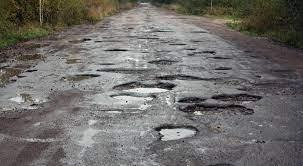pothole: (146, 124, 212, 156), (176, 106, 268, 122), (98, 93, 172, 106), (115, 80, 183, 93), (212, 91, 263, 104), (4, 93, 39, 111), (65, 72, 104, 87), (97, 109, 149, 119), (66, 32, 93, 49), (148, 57, 179, 71), (101, 44, 133, 57), (209, 64, 243, 76), (163, 35, 189, 50), (89, 58, 116, 71), (177, 94, 206, 106), (189, 50, 226, 59), (248, 68, 270, 82), (23, 60, 39, 75), (122, 23, 137, 37)
